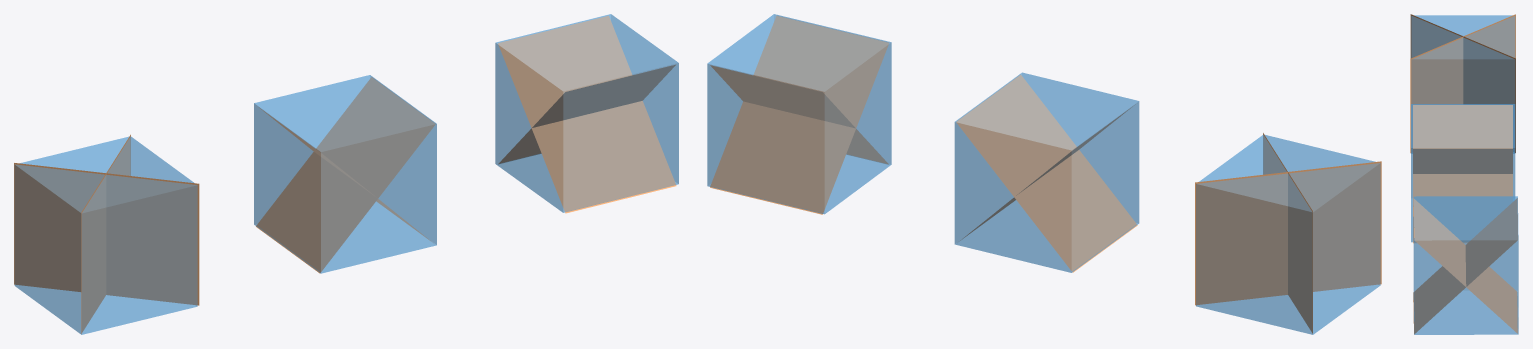
File: planos_de_simetria_del_cubo.glb
3 views of the same model, side by side, from view 1: azimuth 30°, elevation 25°; view 2: azimuth 150°, elevation 25°; view 3: azimuth 270°, elevation 25° (orthographic). The views are drawn at different scales.
Visible parts, largest first — view 1: pCube3, pCube1, pCube2, pPlane4, pPlane3 (×2), pPlane1, pPlane5; view 2: pPlane3 (×2), pCube1, pCube3, pCube2, pPlane5, pPlane1, pPlane4; view 3: pCube3, pPlane1 (×2), pCube1, pCube2, pPlane3 (×2), pPlane4, pPlane5.
Part boxes in pixels (left/top/right/bottom): pCube3: left=495, top=14, right=678, bottom=212; pCube1: left=254, top=75, right=436, bottom=273; pCube2: left=14, top=136, right=197, bottom=334; pPlane4: left=14, top=163, right=199, bottom=305; pPlane3 (×2): left=256, top=64, right=675, bottom=273; pPlane1: left=498, top=16, right=676, bottom=213; pPlane5: left=81, top=134, right=130, bottom=333; pPlane3 (×2): left=710, top=16, right=1137, bottom=272; pCube1: left=954, top=72, right=1139, bottom=272; pCube3: left=707, top=14, right=891, bottom=214; pCube2: left=1196, top=135, right=1380, bottom=334; pPlane5: left=1195, top=161, right=1381, bottom=305; pPlane1: left=710, top=65, right=888, bottom=164; pPlane4: left=1263, top=133, right=1312, bottom=333; pCube3: left=1413, top=196, right=1518, bottom=334; pPlane1 (×2): left=1413, top=105, right=1518, bottom=334; pCube1: left=1411, top=104, right=1515, bottom=242; pCube2: left=1411, top=15, right=1514, bottom=153; pPlane3 (×2): left=1413, top=149, right=1517, bottom=333; pPlane4: left=1410, top=14, right=1515, bottom=153; pPlane5: left=1410, top=14, right=1515, bottom=152.
Size of the model in its own units: 14.83 by 2.94 by 2.98.
